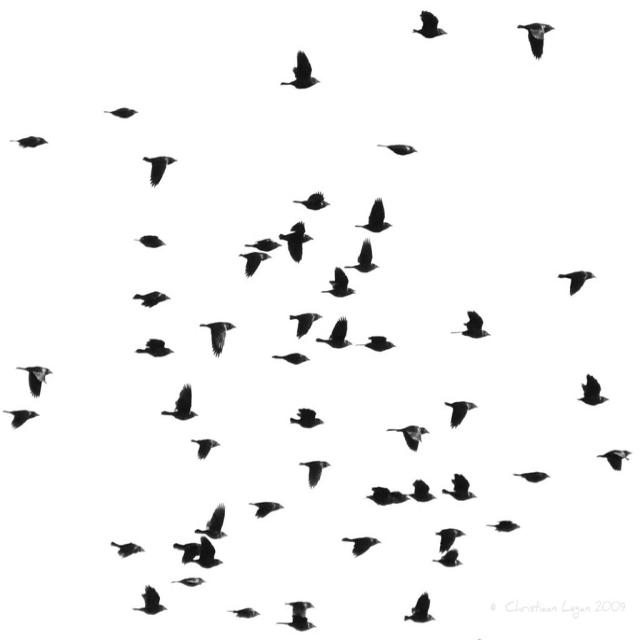bird: (158, 383, 199, 426), (279, 51, 322, 92), (388, 420, 434, 457), (174, 537, 222, 572), (16, 359, 55, 401), (200, 314, 237, 358), (354, 197, 394, 237), (140, 147, 178, 189), (519, 20, 558, 60), (278, 222, 314, 264), (237, 241, 275, 280), (193, 503, 229, 542), (450, 307, 491, 341), (318, 315, 354, 352), (321, 266, 356, 304), (278, 598, 316, 633), (410, 8, 447, 43), (577, 373, 611, 411), (556, 268, 596, 300), (135, 334, 176, 364), (595, 444, 632, 477), (350, 240, 380, 280), (445, 396, 479, 431), (443, 470, 477, 505), (298, 454, 332, 488), (404, 592, 436, 628), (133, 284, 171, 314), (293, 186, 331, 216), (343, 533, 382, 562), (10, 129, 49, 157), (433, 525, 466, 558), (135, 586, 169, 618), (289, 403, 325, 433), (366, 482, 406, 509), (288, 306, 321, 338), (4, 404, 39, 434), (188, 435, 222, 464), (249, 495, 283, 523), (515, 466, 554, 490), (360, 332, 396, 356), (106, 102, 141, 126), (274, 346, 312, 368), (379, 141, 418, 162), (486, 516, 521, 539), (110, 539, 144, 562), (407, 479, 437, 505), (136, 230, 168, 254), (434, 550, 466, 572), (229, 607, 261, 623), (175, 574, 207, 590)
